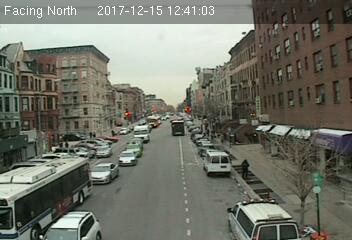bus: (2, 157, 95, 240)
car: (32, 209, 101, 240), (91, 163, 118, 186), (116, 151, 140, 166), (124, 143, 144, 157)
pedestrian: (238, 158, 251, 182)
police: (226, 197, 302, 240)
truck: (200, 150, 231, 179), (134, 125, 150, 142)
ups: (170, 121, 185, 137)
